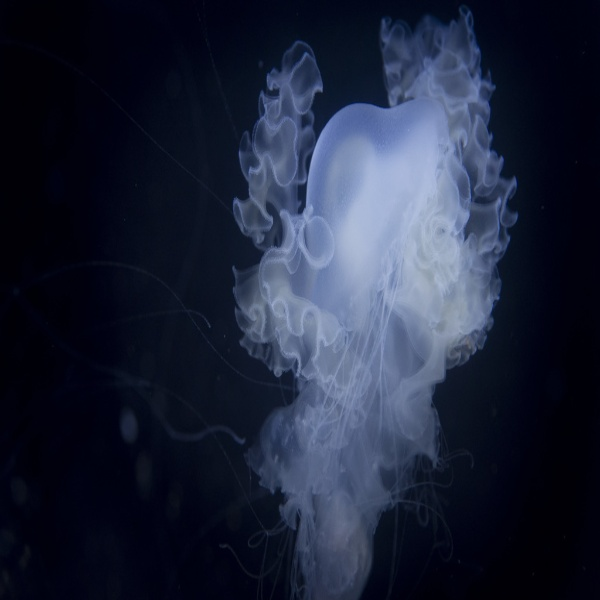Jellyfish: (231, 0, 519, 598)
